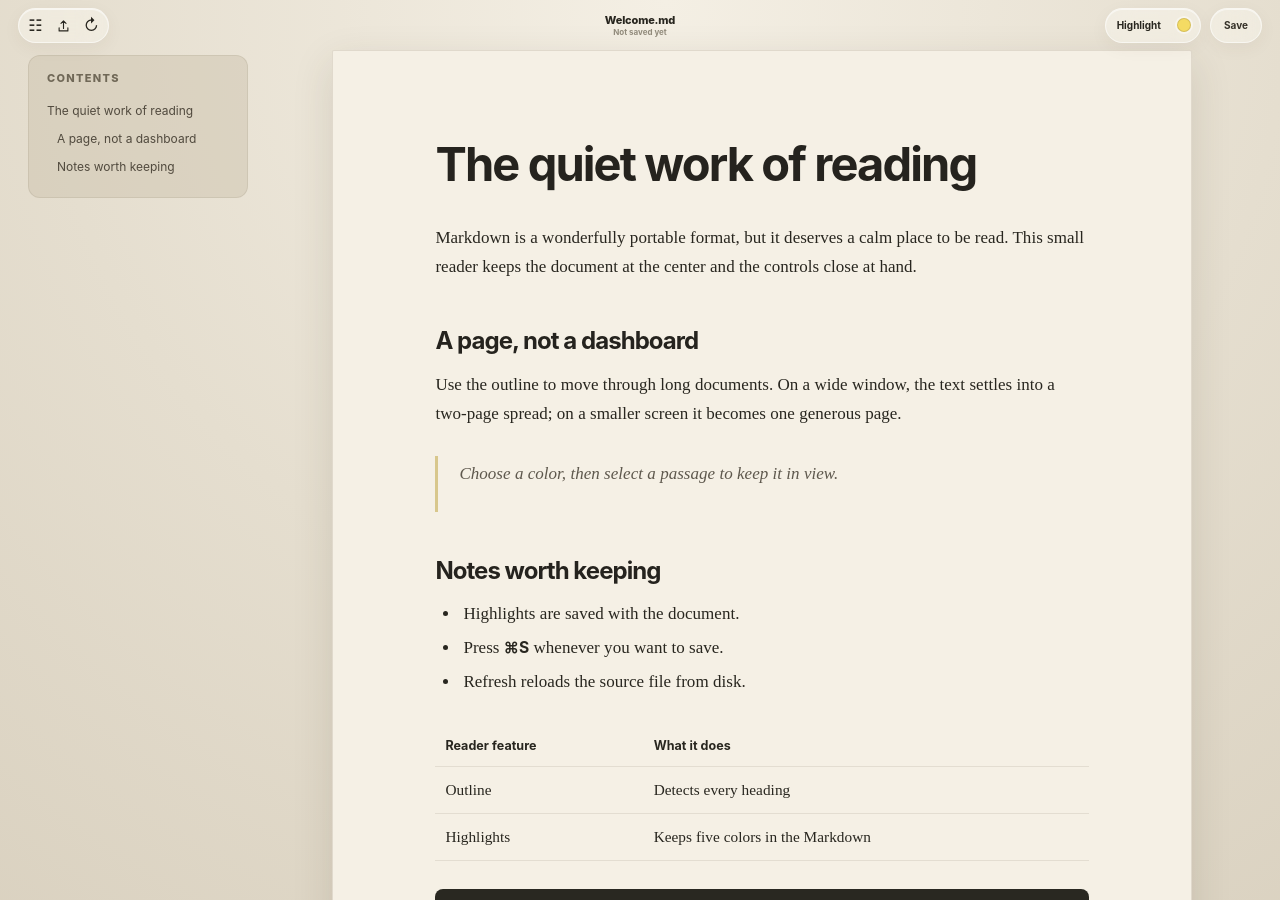
Test: Reader controls › keeps Sun selected by default and separates mode toggle from color selection
Click the button "Highlight": (1139, 25) [1109,12,1169,38]
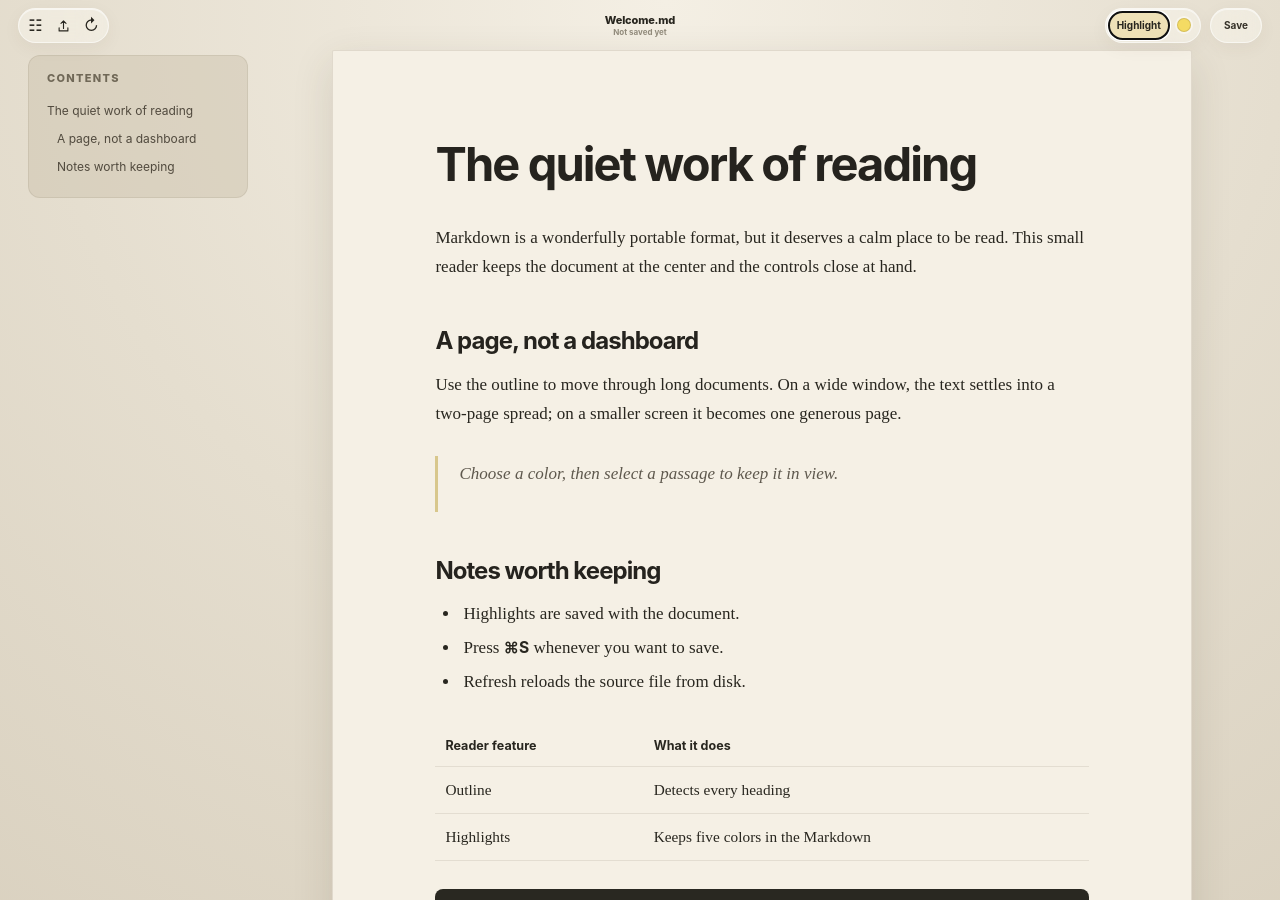
Result: the button "Highlight" is pressed at [1109,12,1169,38]
Click the button named "Choose highlight color; currently Sun": (1184, 25) [1170,12,1197,38]
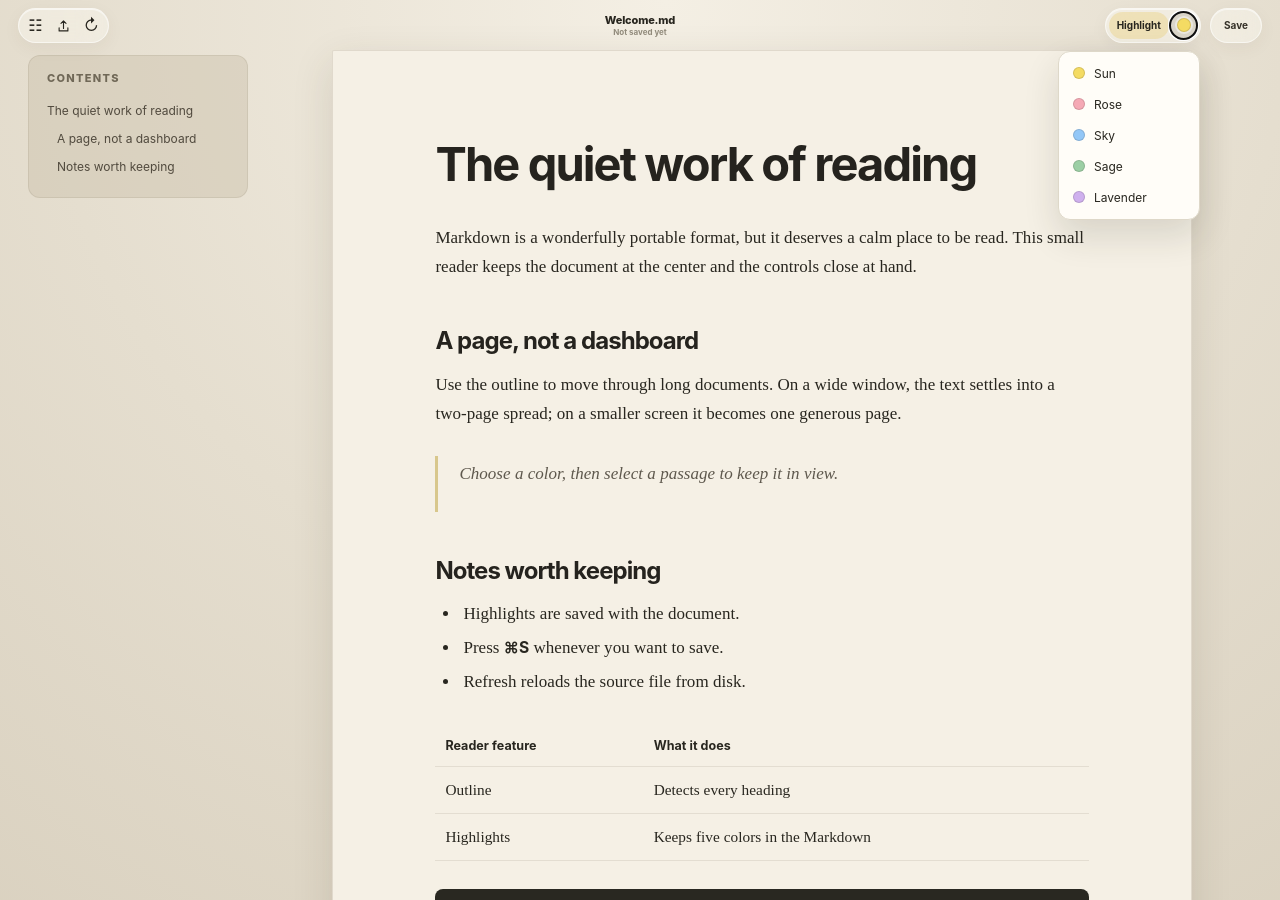
Click the button "Rose": (1129, 104) [1065,88,1193,120]
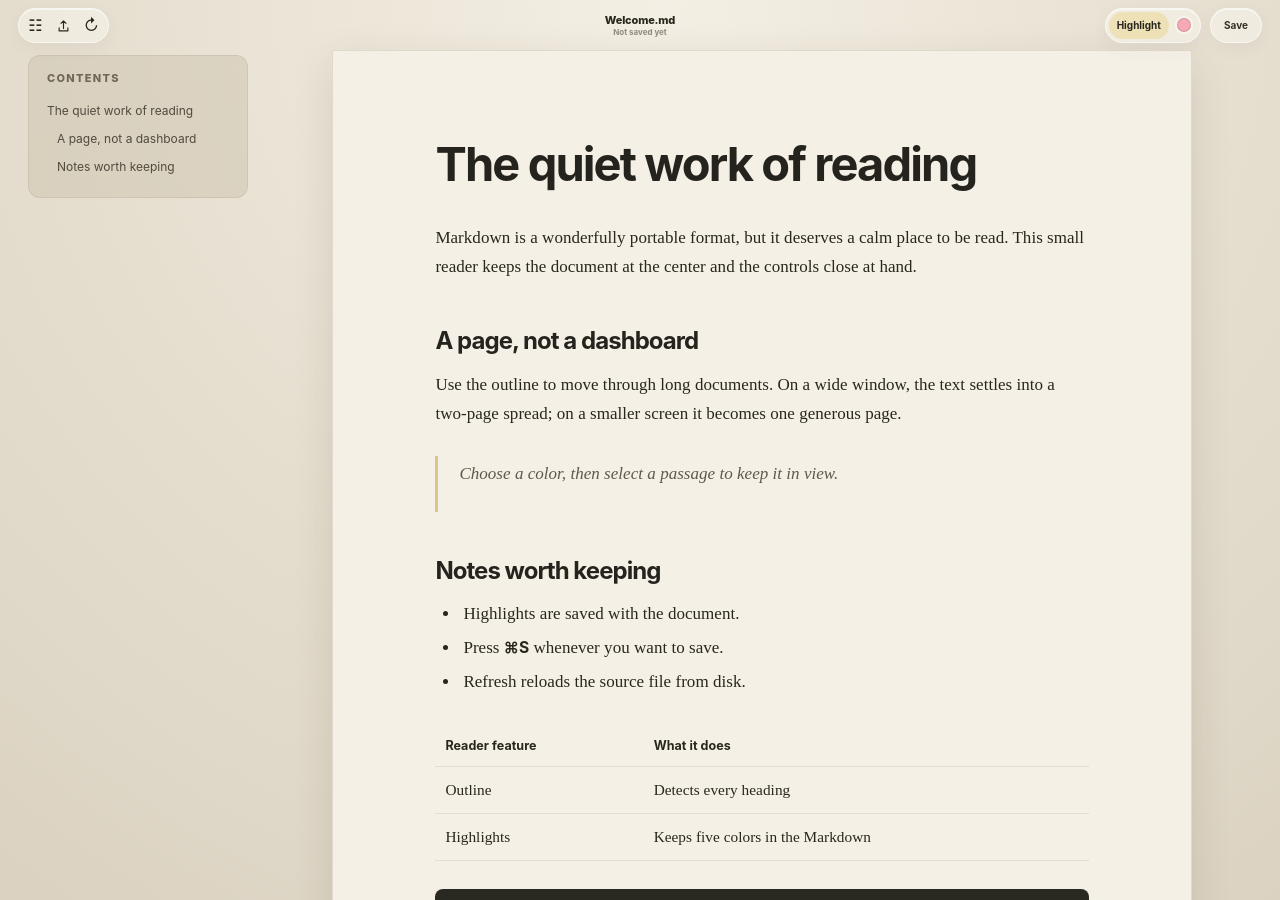
Result: the button named "Choose highlight color; currently Rose" is shown at [1170,12,1197,38]
